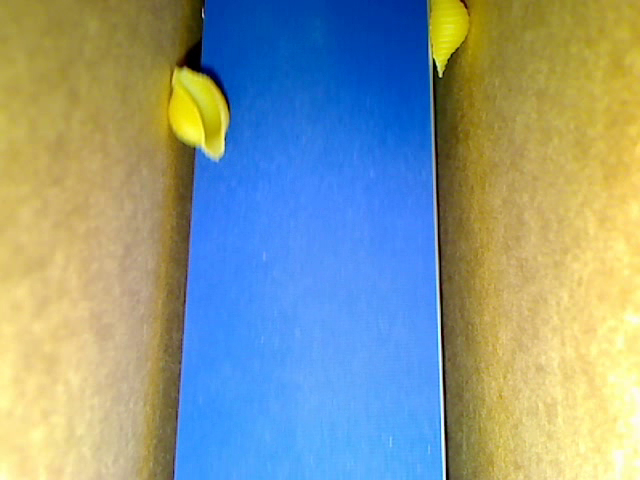shell: (168, 63, 228, 160), (428, 1, 474, 77)
